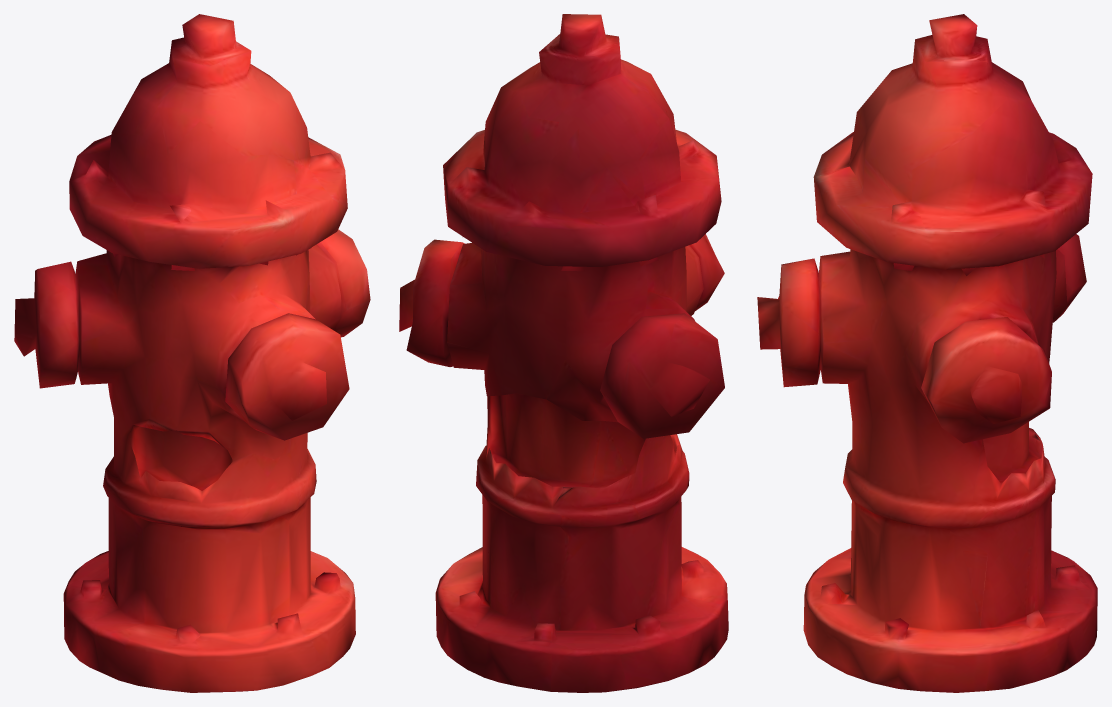
Rendered from hydrant.glb.
The picture shows the model from 3 angles, left to right: view 1: azimuth 30°, elevation 25°; view 2: azimuth 150°, elevation 25°; view 3: azimuth 270°, elevation 25°; orthographic projection.
Visible parts, largest first — view 1: tripo_node_01a21d84-f7e5-7367-a629-83c1eb1b22bc; view 2: tripo_node_01a21d84-f7e5-7367-a629-83c1eb1b22bc; view 3: tripo_node_01a21d84-f7e5-7367-a629-83c1eb1b22bc.
Boxes of the visible parts, x1,y1,x2,y2 form: tripo_node_01a21d84-f7e5-7367-a629-83c1eb1b22bc: (14,14,370,692); tripo_node_01a21d84-f7e5-7367-a629-83c1eb1b22bc: (399,14,728,692); tripo_node_01a21d84-f7e5-7367-a629-83c1eb1b22bc: (757,14,1097,692).
Bounding box in the file's own units: 0.4394 × 0.8 × 0.4043.
1 material, 1 textured.
